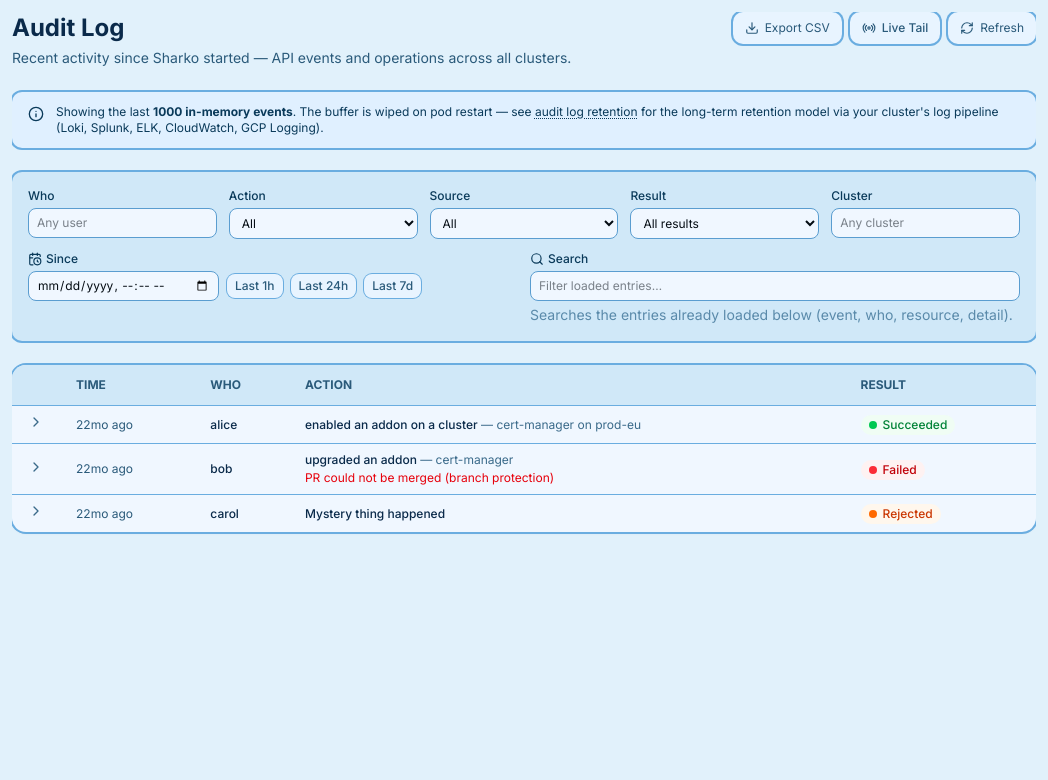
Scenario: AuditViewer › reveals Detail and Error in the expanded row, including the failure error
Expected: the text "upgraded an addon" is shown, x1=305 y1=452 x2=417 y2=467
# Expand the failure row (the addon_upgraded entry, second row).
Step 1. Click the button named "Expand details" in the row of "bob" → (36, 466), box x1=28 y1=458 x2=44 y2=474
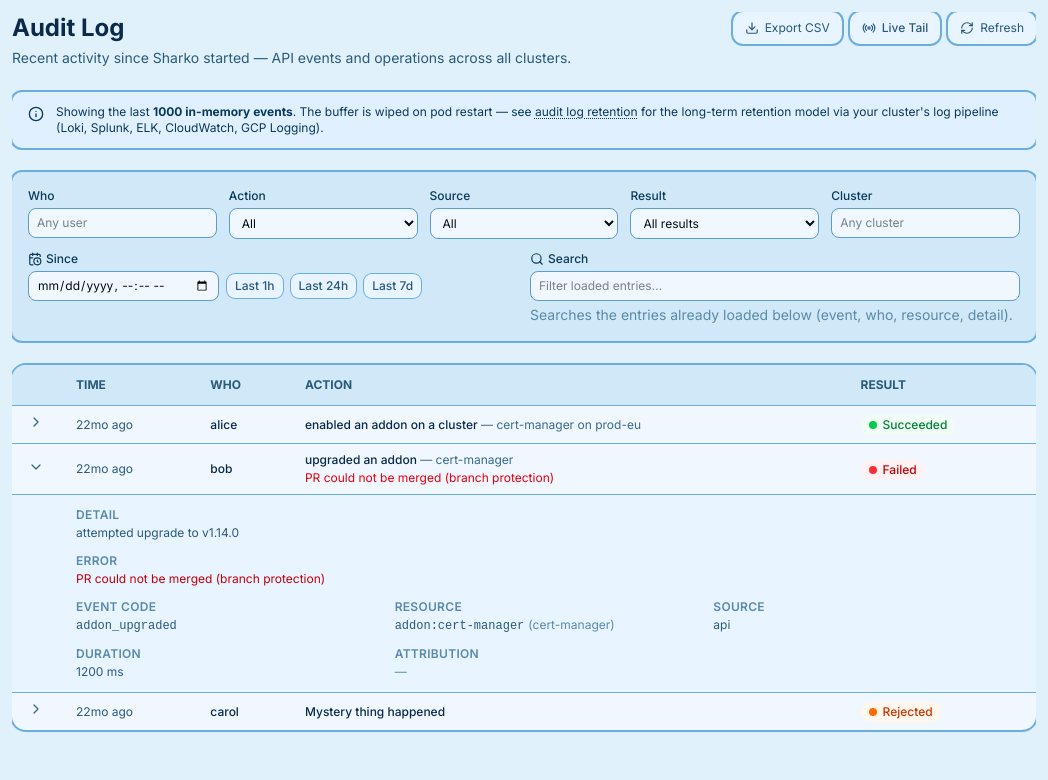
Expected: the text "attempted upgrade to v1.14.0" is shown, x1=76 y1=525 x2=239 y2=540
Expected: the text "Attribution" is shown, x1=395 y1=646 x2=479 y2=661
Expected: the text "Duration" is shown, x1=76 y1=646 x2=141 y2=661
